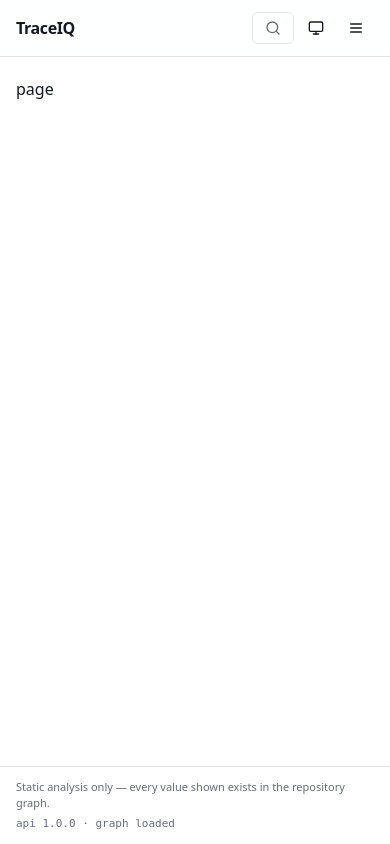
Test: AppShell › exposes the mobile navigation as a labelled disclosure
Click the button named "Open navigation" at {"x": 356, "y": 28}, box [338,10,374,46]
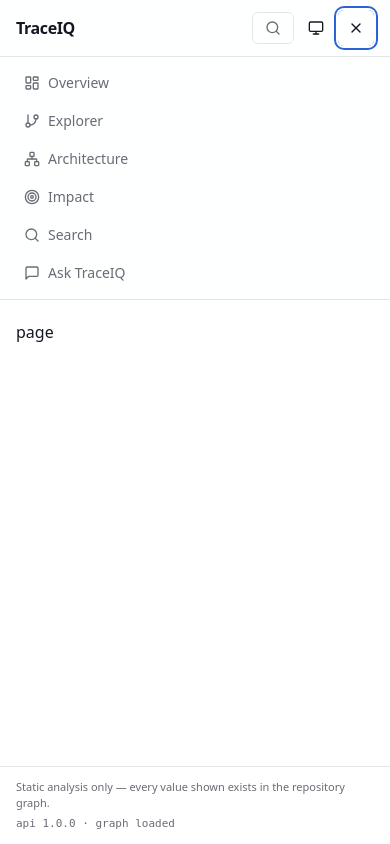
Expected: the button named "Close navigation" is expanded, [338,10,374,46]
